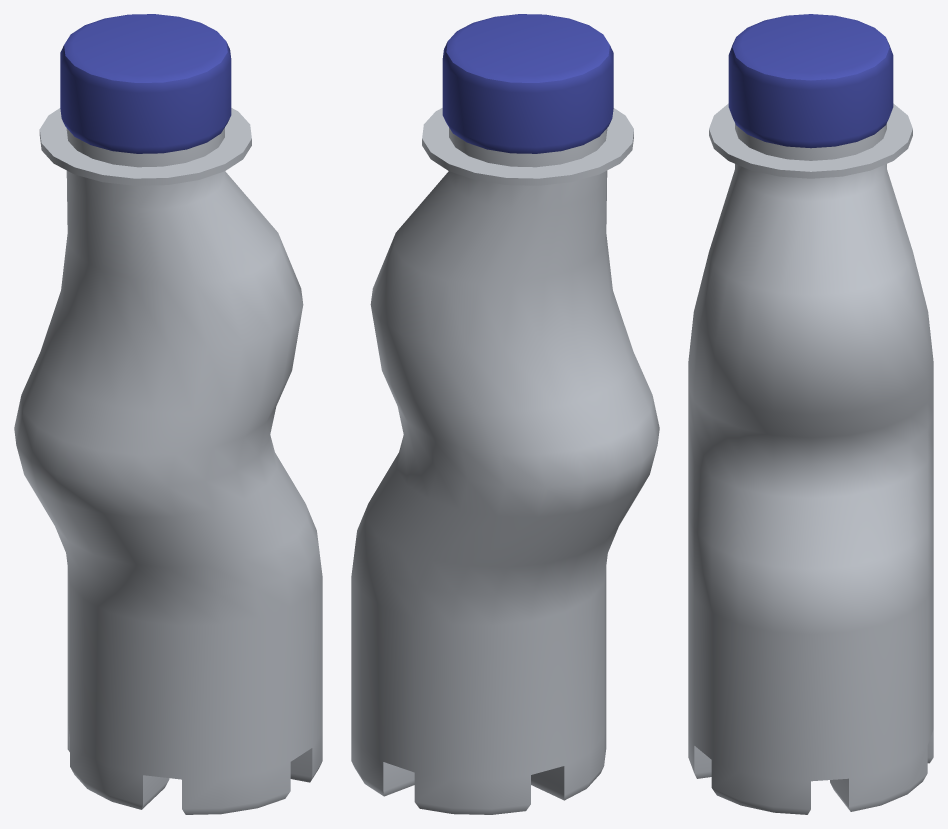
File: SM_WaterBottle.fbx
The picture shows the model from 3 angles, left to right: view 1: azimuth 30°, elevation 25°; view 2: azimuth 150°, elevation 25°; view 3: azimuth 270°, elevation 25°; orthographic projection. The views are drawn at different scales.
Visible parts, largest first — view 1: polySurface62, SM_BottleCap; view 2: polySurface62, SM_BottleCap; view 3: polySurface62, SM_BottleCap.
Boxes of the visible parts, x1,y1,x2,y2 form: polySurface62: (14,108,322,814); SM_BottleCap: (60,14,231,153); polySurface62: (351,108,659,814); SM_BottleCap: (442,14,613,153); polySurface62: (688,103,933,814); SM_BottleCap: (728,14,893,148).
Bounding box in the file's own units: 14.48 × 36.79 × 11.67.
Materials: 1 (1 with a texture image).
